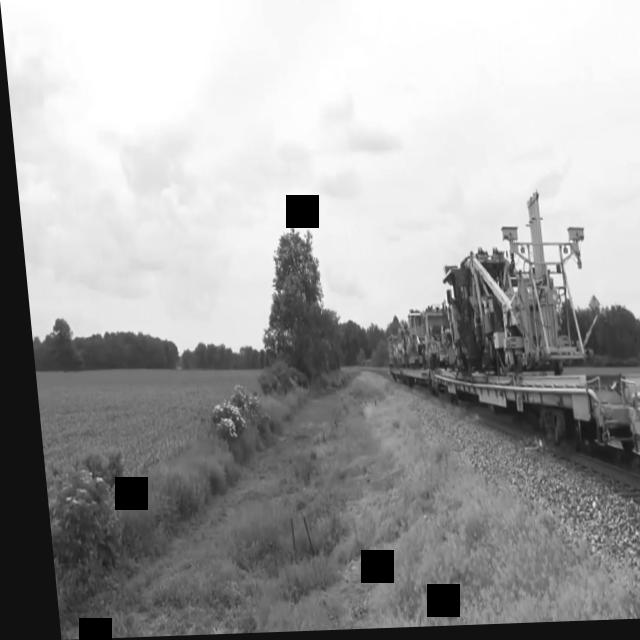cargo: (429, 194, 595, 378)
flatcar: (422, 360, 640, 553)
